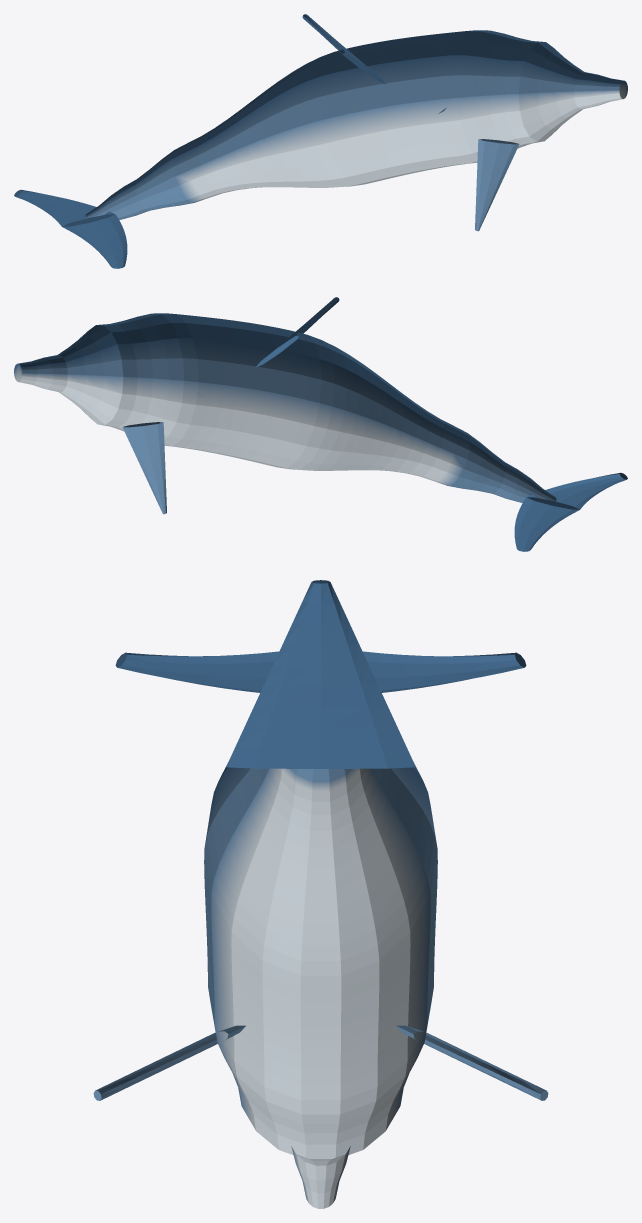
Rendered from dolphin.glb.
3 renders of one model, top to bottom at view 1: azimuth 30°, elevation 25°; view 2: azimuth 150°, elevation 25°; view 3: azimuth 270°, elevation 25°, orthographic. The views are drawn at different scales.
Visible parts, largest first — view 1: Dolphin; view 2: Dolphin; view 3: Dolphin.
Boxes of the visible parts, x1,y1,x2,y2 form: Dolphin: (14, 14, 627, 268); Dolphin: (14, 297, 627, 551); Dolphin: (93, 580, 548, 1208).
Bounding box in the file's own units: 2.74 × 0.9484 × 0.9569.
